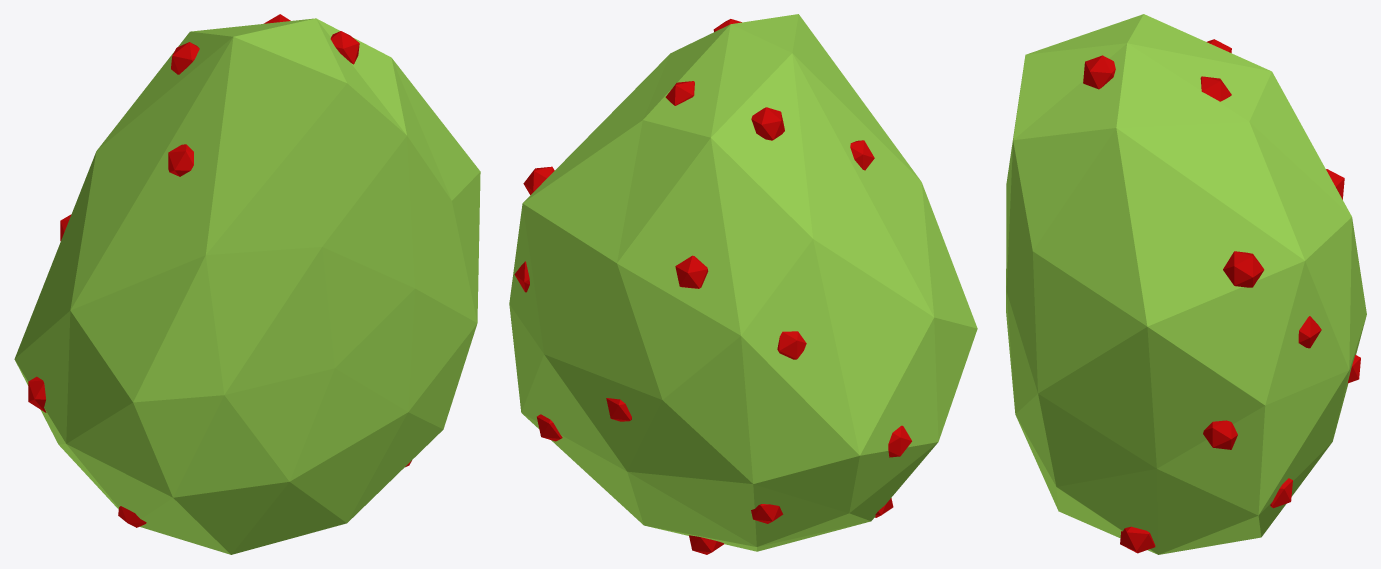
File: Bush_1_Berry.fbx
3 views of the same model, side by side, from view 1: azimuth 30°, elevation 25°; view 2: azimuth 150°, elevation 25°; view 3: azimuth 270°, elevation 25° (orthographic). The views are drawn at different scales.
Visible parts, largest first — view 1: Bush_1_Berry; view 2: Bush_1_Berry; view 3: Bush_1_Berry.
Boxes of the visible parts, x1=… form: Bush_1_Berry: x1=14, y1=14, x2=480, y2=554; Bush_1_Berry: x1=509, y1=14, x2=977, y2=554; Bush_1_Berry: x1=1006, y1=14, x2=1366, y2=554.
Bounding box in the file's own units: 212 × 259 × 164.
